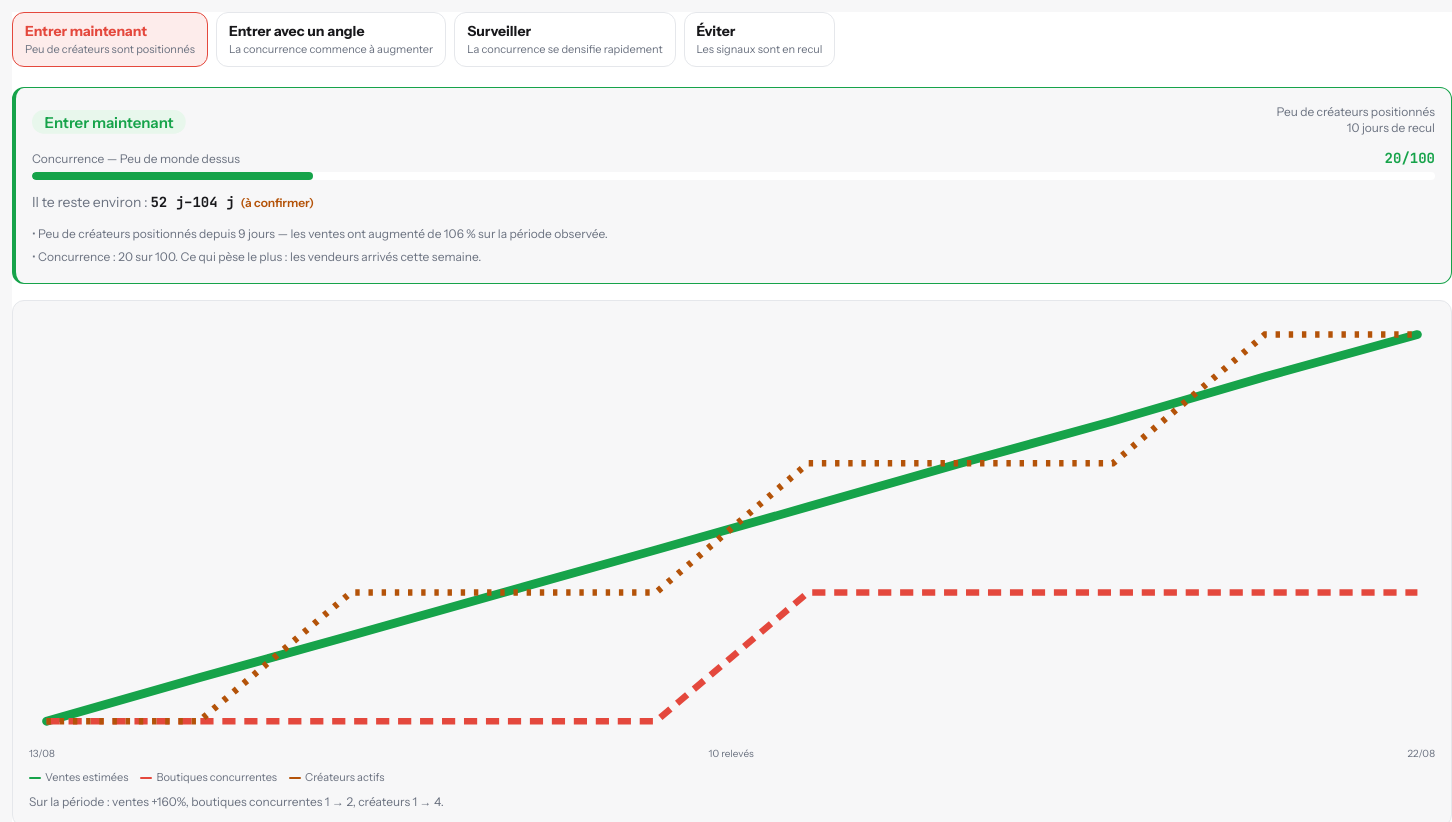
it: VerdictPlayground › change de verdict quand on tape une autre situation
Click the button "Surveiller La concurrence se densifie rapidement" at coordinates (565, 39), box [454,12,676,66]
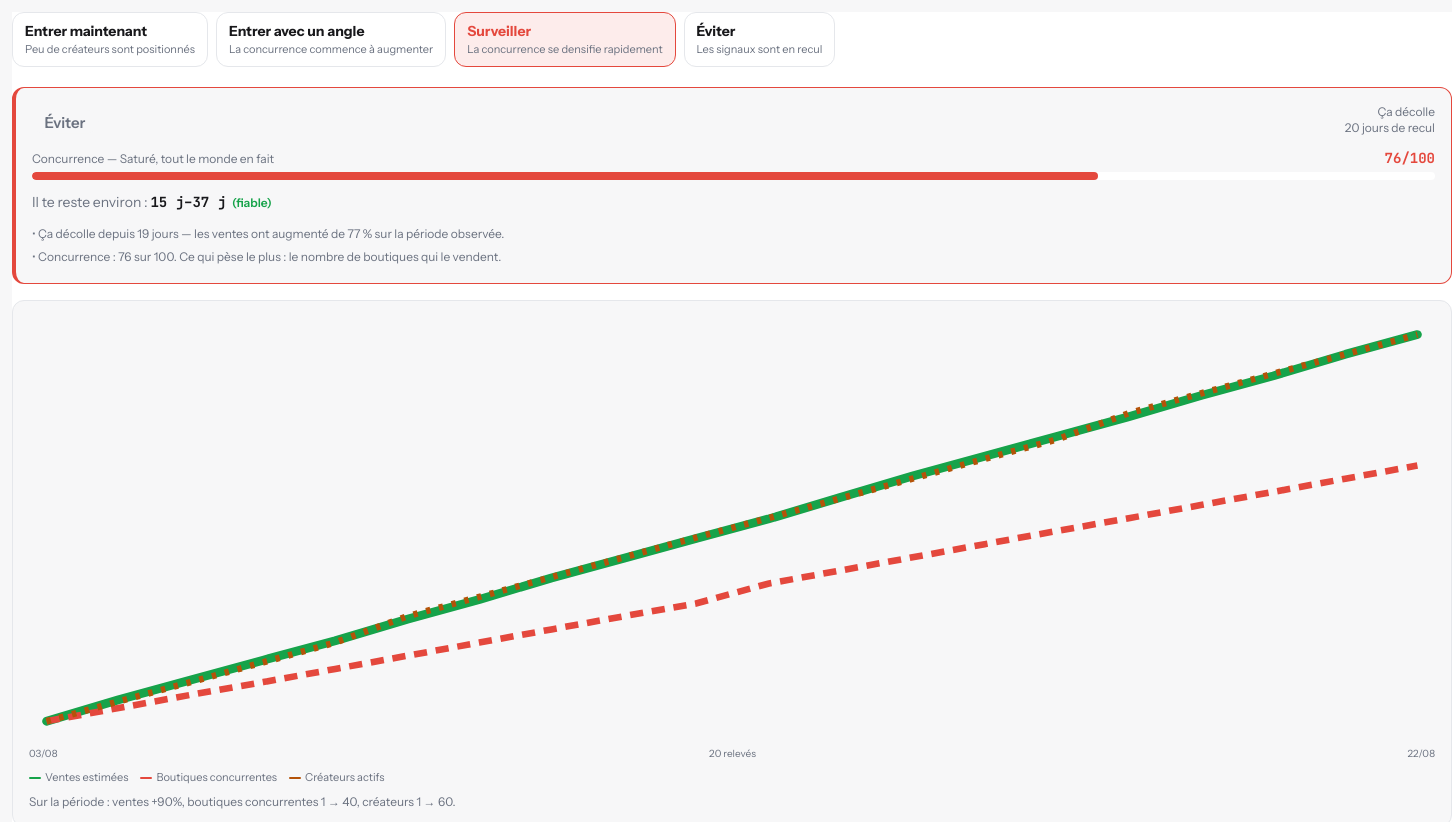
Result: the text "Éviter" in the row of "jours de recul" is shown at [44,112,85,131]
